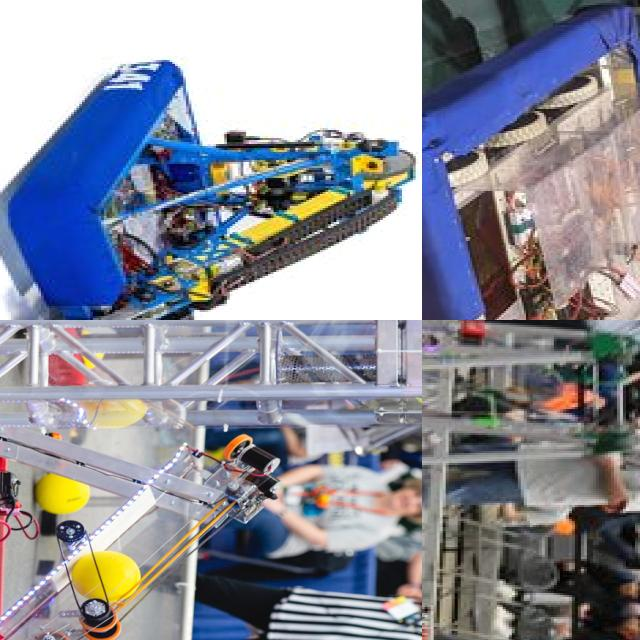FRC-Robots: (0, 13, 422, 320), (0, 364, 292, 640), (422, 0, 640, 320), (422, 320, 640, 557), (0, 320, 263, 400)
